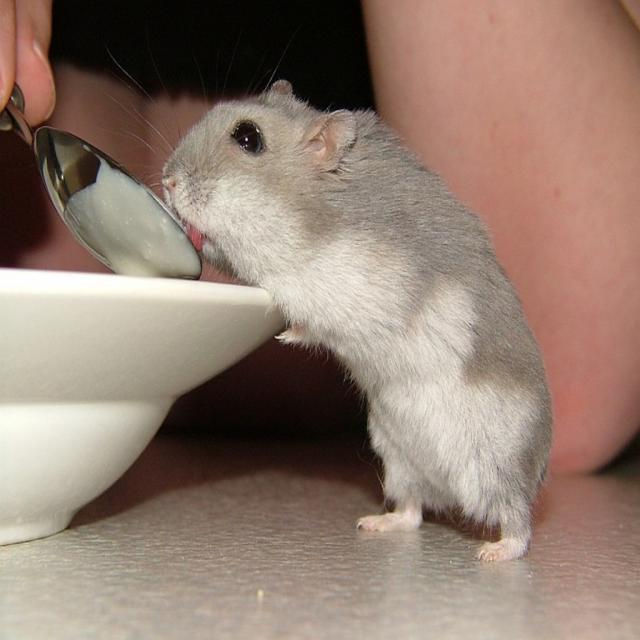rat: (154, 76, 552, 561)
